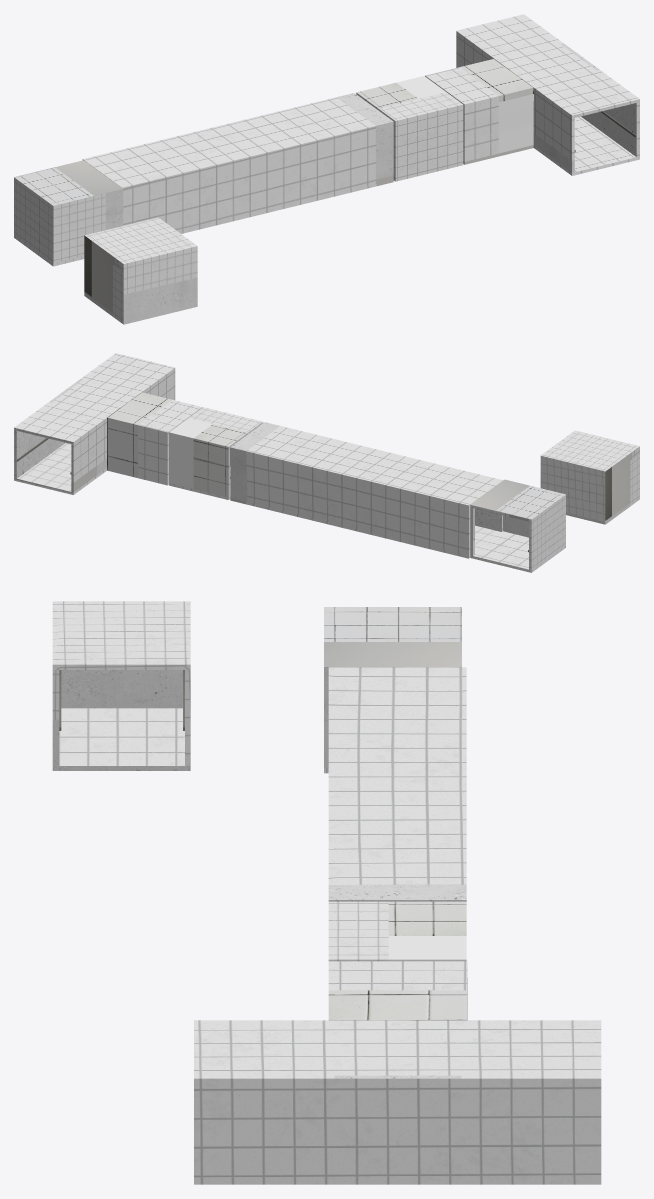
The model's file is HallwaysBetter.fbx.
The picture shows the model from 3 angles, top to bottom: view 1: azimuth 30°, elevation 25°; view 2: azimuth 150°, elevation 25°; view 3: azimuth 270°, elevation 25°; orthographic projection. The views are drawn at different scales.
Parts seen in each view (by area): view 1: Tube, TShape, EndPiece, Corner, OneBlock; view 2: Tube, TShape, EndPiece, Corner, OneBlock; view 3: TShape, Tube, EndPiece, Corner, OneBlock.
Part boxes in pixels (x1,y1,x2,y2): Tube: (82,93,393,233); TShape: (425,14,639,175); EndPiece: (84,217,197,324); Corner: (14,160,123,266); OneBlock: (356,76,463,181); Tube: (230,422,502,558); TShape: (14,353,202,494); EndPiece: (540,430,639,524); Corner: (470,479,565,572); OneBlock: (169,407,263,499); TShape: (194,961,601,1184); Tube: (328,667,466,901); EndPiece: (52,601,190,770); Corner: (324,607,461,773); OneBlock: (328,901,466,961).
Bounding box in the file's own units: 3229 × 336 × 1570.
1 material, 1 textured.
